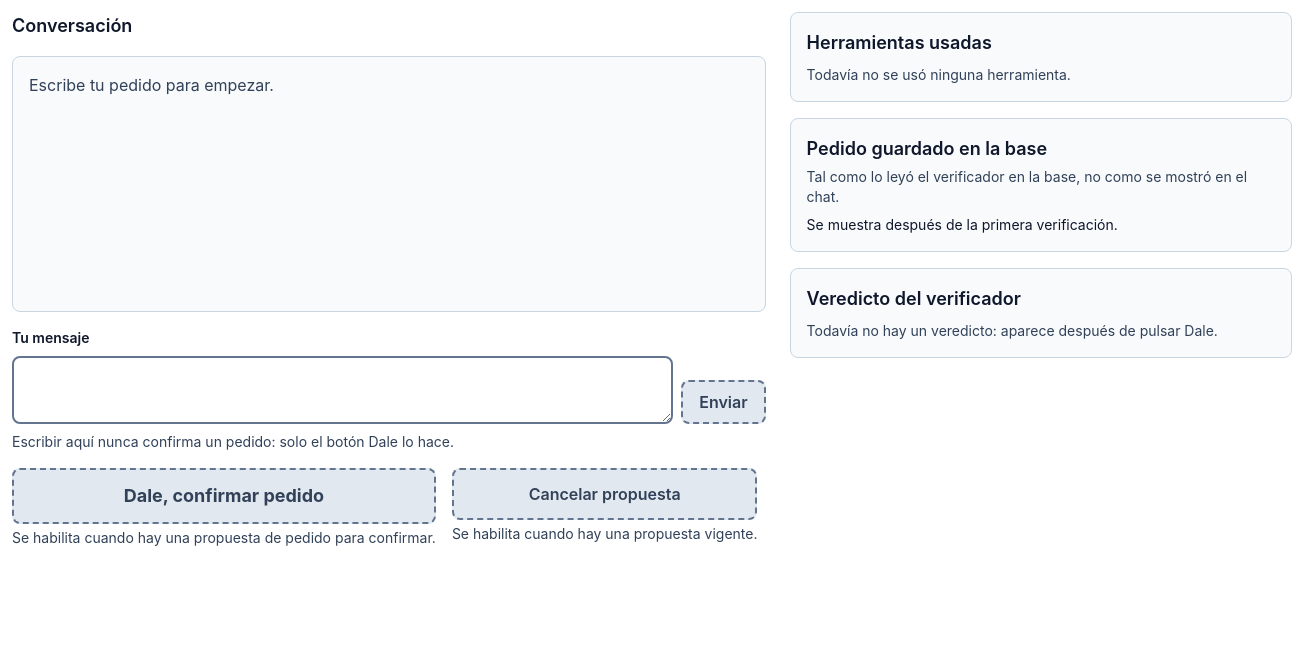
Scenario: a summary says where its proposal stands (S15.5) › says confirmed, never 'not yet confirmed', after the order is confirmed
The width and height of the screenshot is (1292, 654).
Type "dos harinas" into the text box labelled "Tu mensaje".
click(343, 390); type("dos harinas")  # box [12,356,673,424]
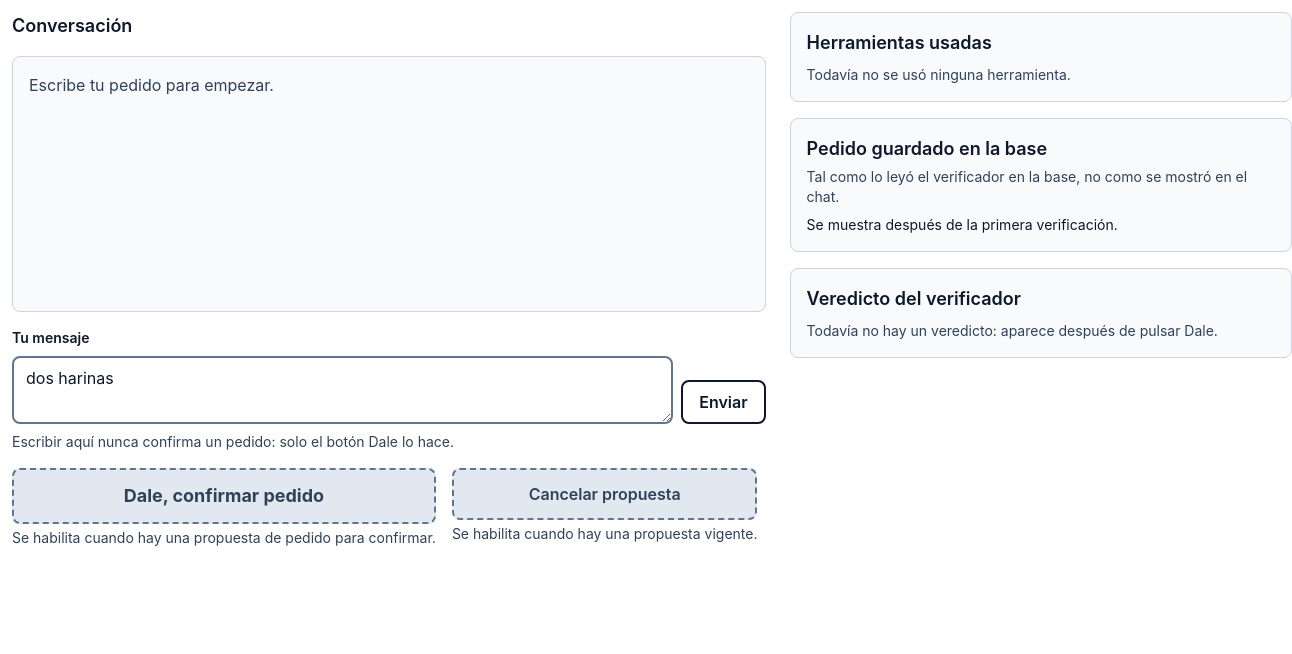
Click the button "Enviar".
click(723, 402)  # box [681,380,766,424]
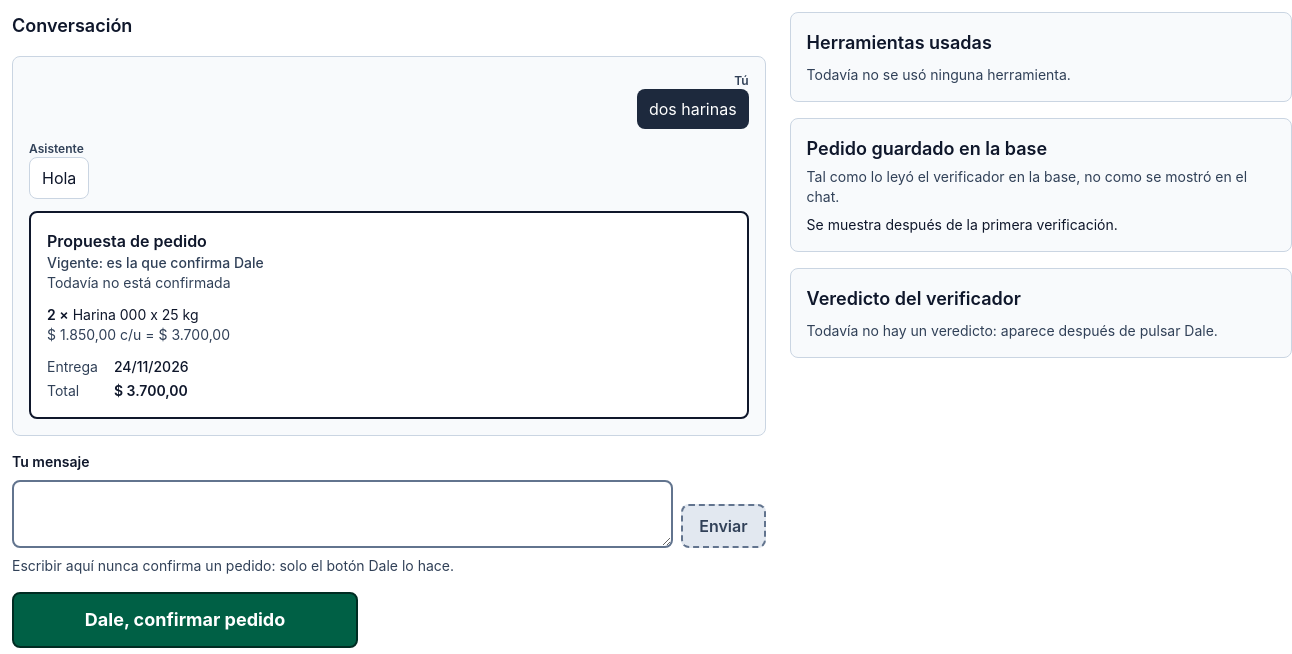
Check: the text "Todavía no está confirmada" is shown, box [47,274,230,291]
Click the button "Dale, confirmar pedido".
click(185, 620)  # box [12,592,358,648]
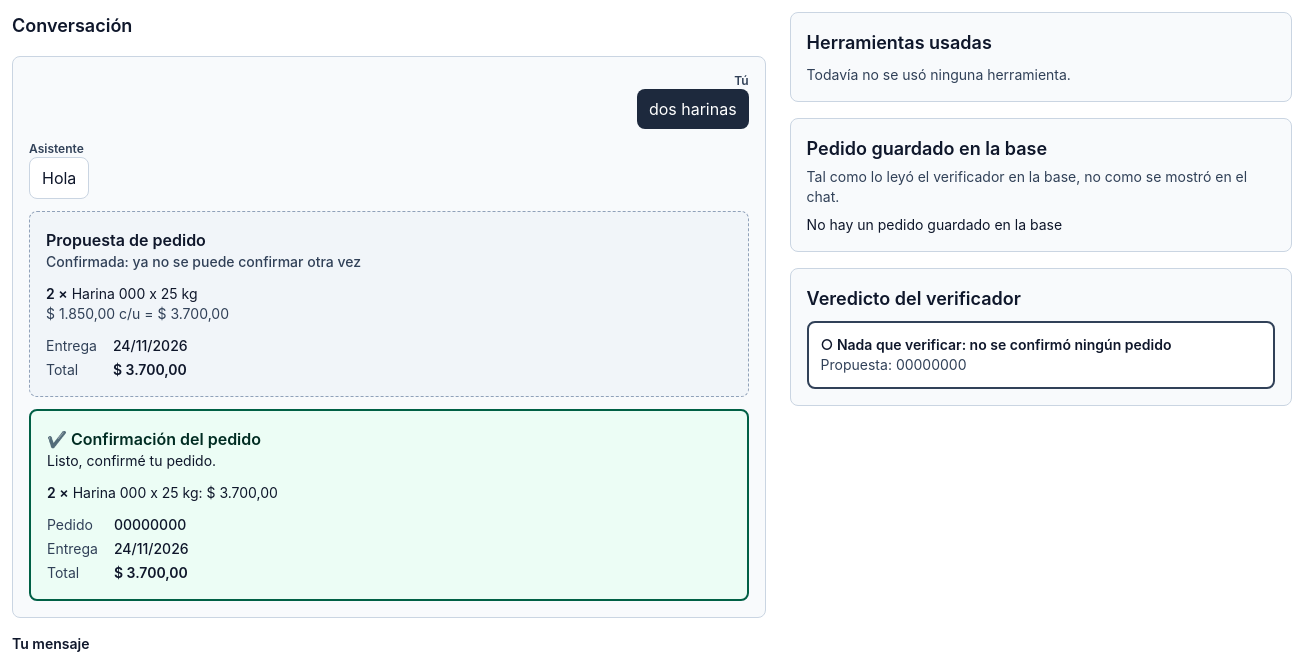
Check: the text "Confirmada: ya no se puede confirmar otra vez" is shown, box [46,253,361,270]
Check: the text "Todavía no está confirmada" is gone
